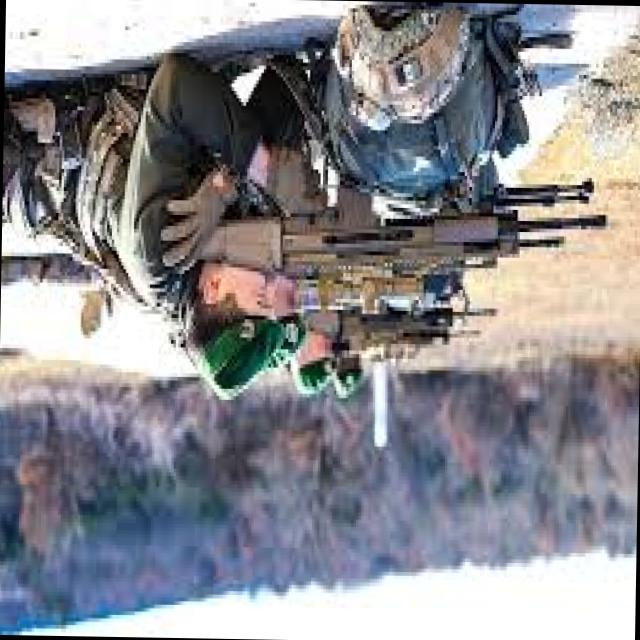Gun: (176, 136, 633, 300), (284, 224, 573, 324), (329, 282, 503, 358)
